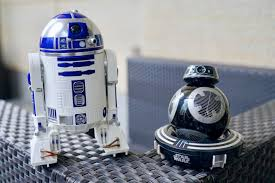r2d2: (27, 9, 129, 169)
